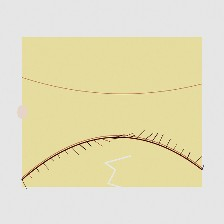foreign_body_visible: (41, 93, 72, 118)
